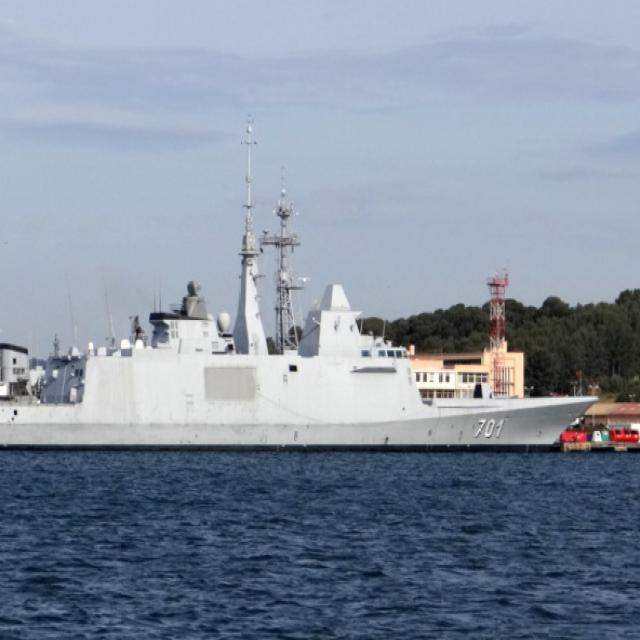Fragata: (1, 129, 614, 458)
